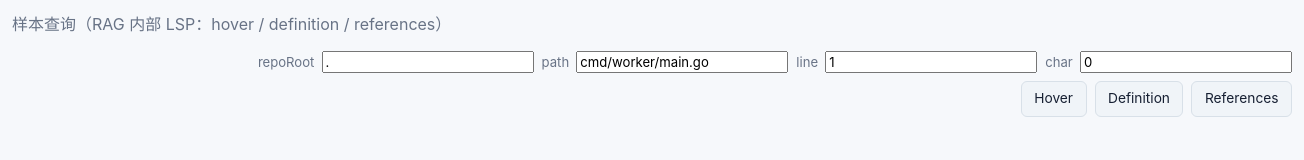
Test case: RagLspProbePanel › disables actions when repoRoot is cleared
This screenshot has width=1304, height=160.
Clear the field with test id "probe-repo-root" at (428, 62), box x1=322 y1=51 x2=534 y2=73
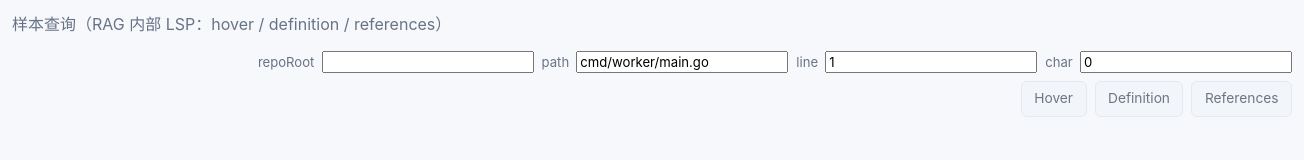
Expected: the button with test id "probe-hover" is disabled, x1=1021 y1=81 x2=1086 y2=117
